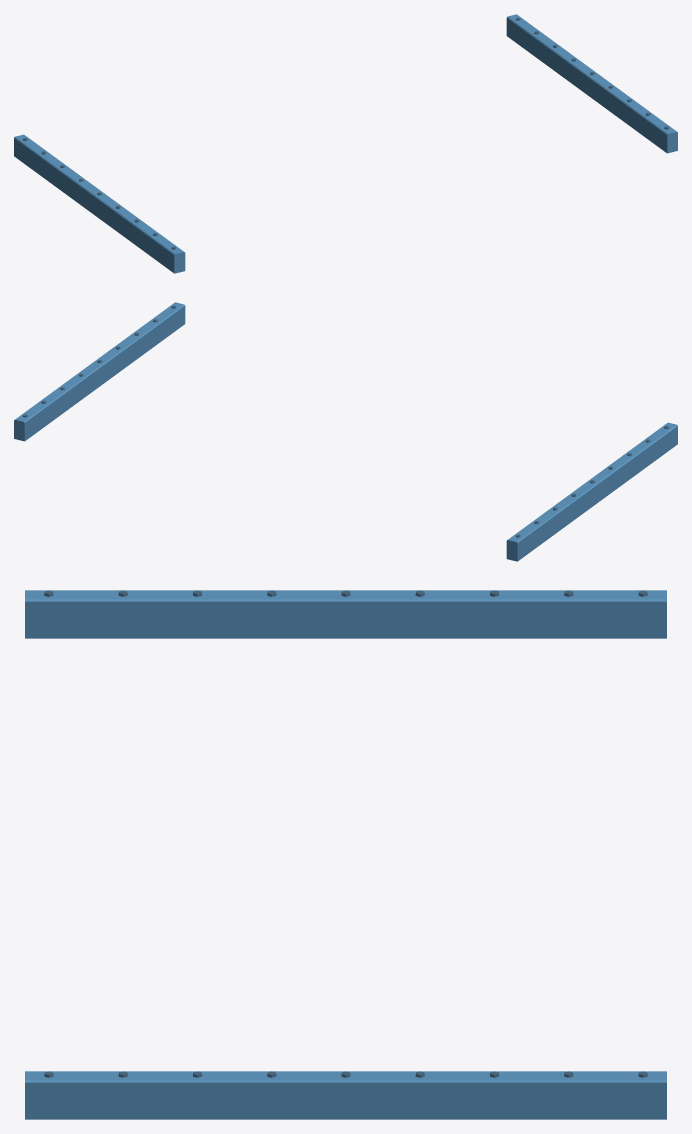
The model's file is railA_side.fbx.
3 renders of one model, top to bottom at view 1: azimuth 30°, elevation 25°; view 2: azimuth 150°, elevation 25°; view 3: azimuth 270°, elevation 25°, orthographic. The views are drawn at different scales.
Visible parts, largest first — view 1: railA_side; view 2: railA_side; view 3: railA_side.
Boxes of the visible parts, box(x1,y1,x2,y2) form: railA_side: box(14, 14, 677, 273); railA_side: box(14, 302, 677, 561); railA_side: box(25, 590, 666, 1119).
Size of the model in its own units: 5 by 0.1953 by 2.76.
